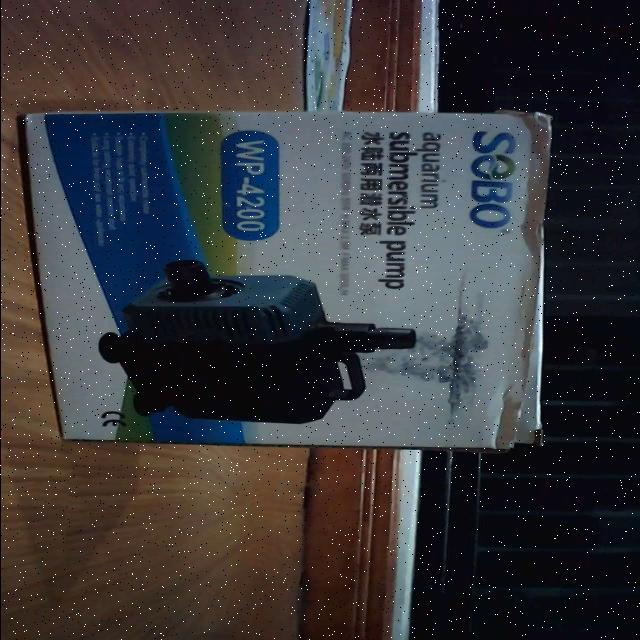SOBO_WP_4200: (10, 98, 584, 460)
